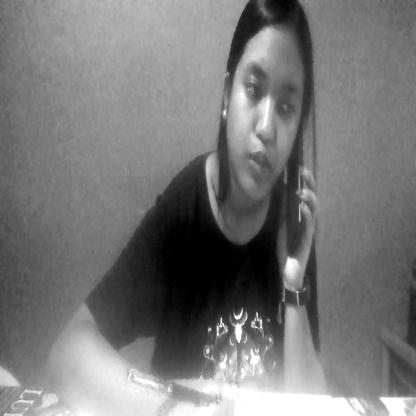Normal: (223, 2, 312, 211)
